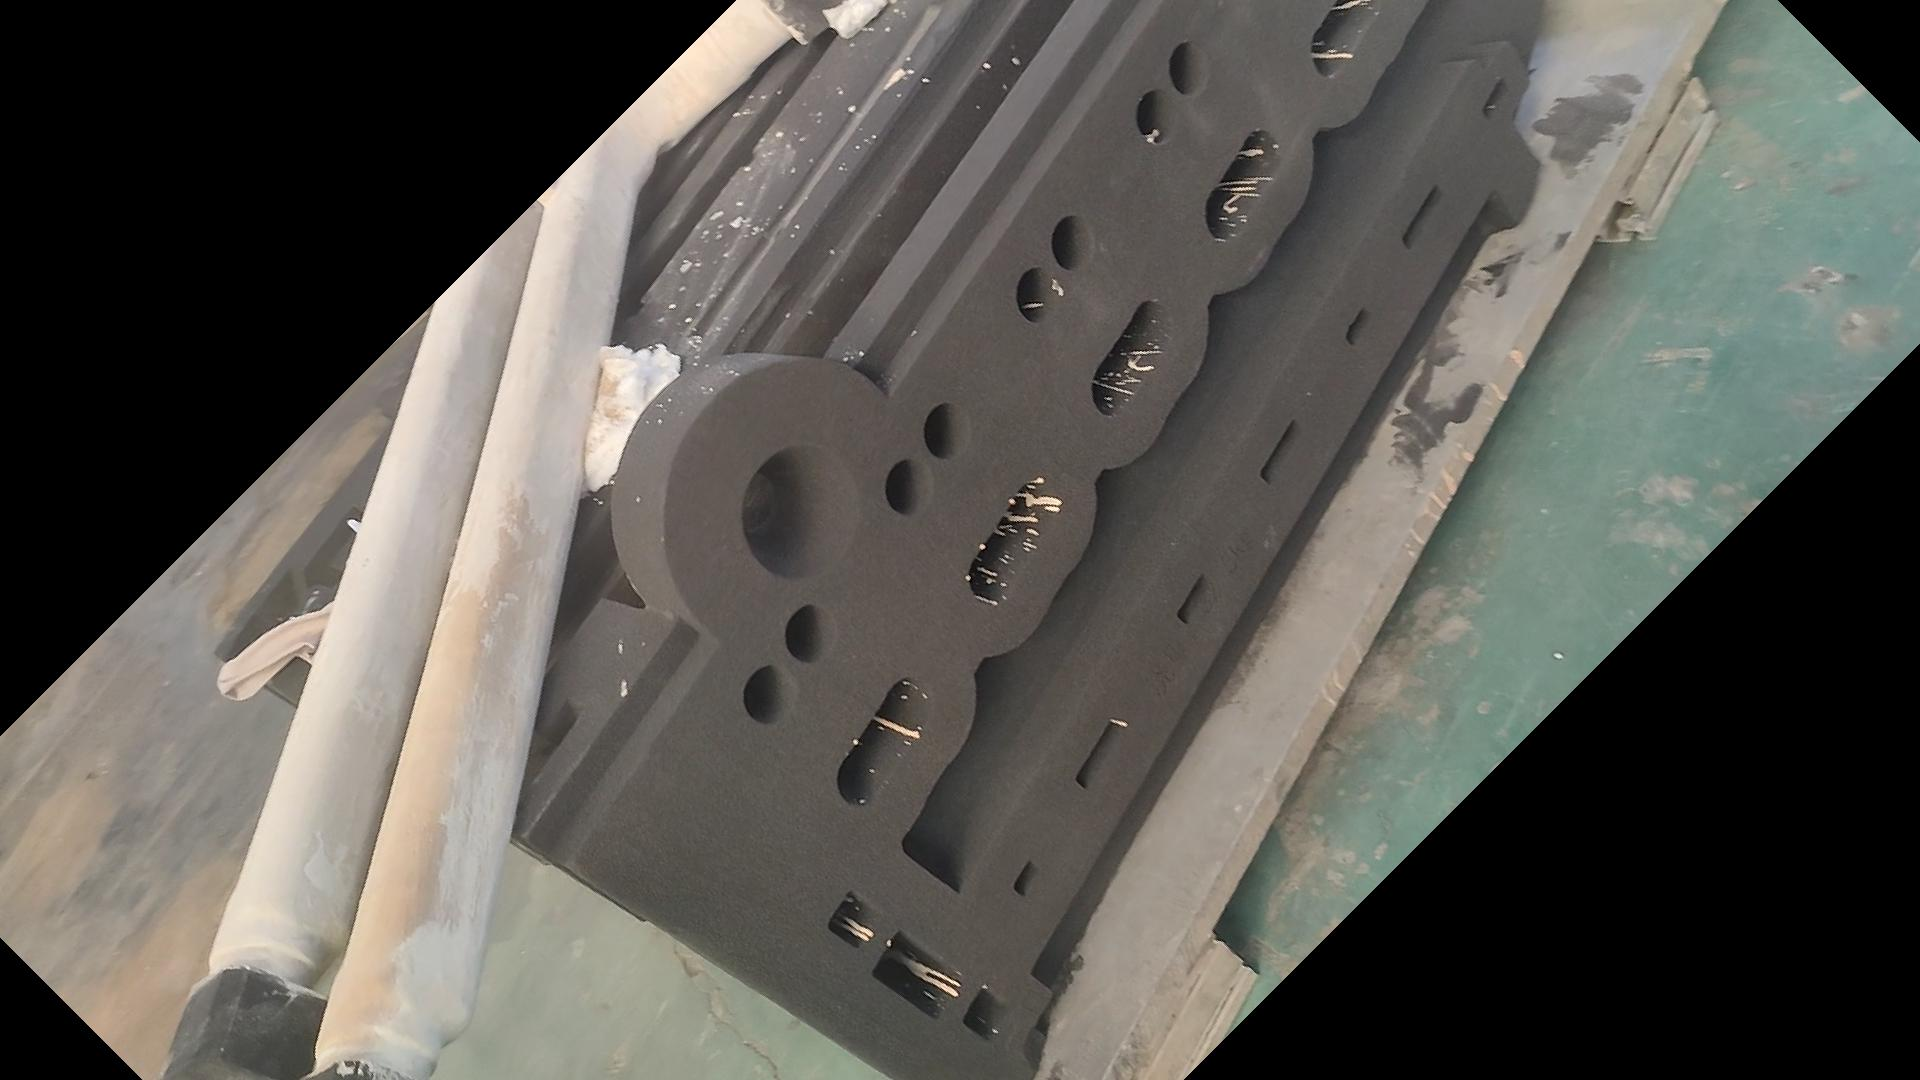pouring hole: (742, 444, 861, 578)
